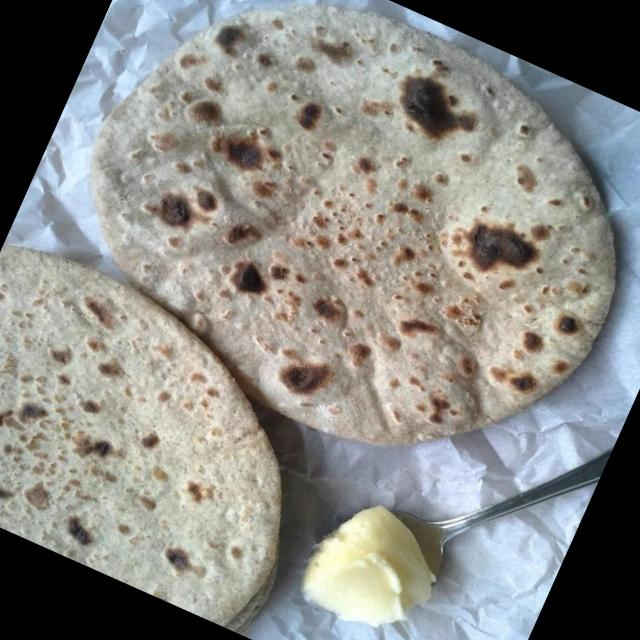roti: (91, 4, 623, 448), (0, 249, 279, 628)
